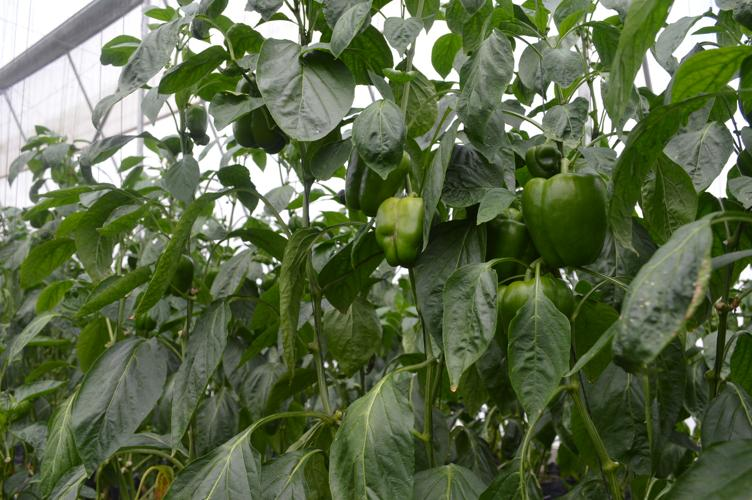BellPepper: (524, 174, 606, 271), (493, 272, 573, 335), (337, 145, 407, 209), (377, 197, 426, 269), (487, 212, 537, 278), (229, 109, 287, 154)
